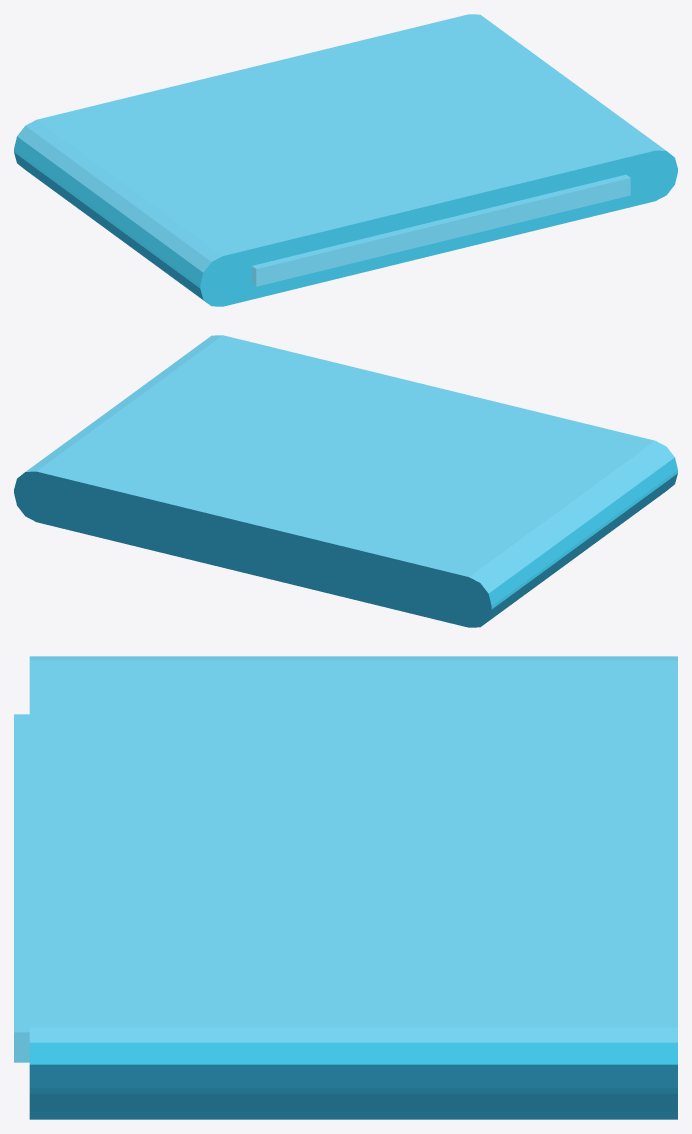
File: Plate_Pad.gltf
The picture shows the model from 3 angles, top to bottom: view 1: azimuth 30°, elevation 25°; view 2: azimuth 150°, elevation 25°; view 3: azimuth 270°, elevation 25°; orthographic projection. The views are drawn at different scales.
Parts seen in each view (by area): view 1: Plate_Pad_baked; view 2: Plate_Pad_baked; view 3: Plate_Pad_baked.
Part boxes in pixels (x1,y1,x2,y2): Plate_Pad_baked: (14, 14, 677, 306); Plate_Pad_baked: (14, 335, 677, 627); Plate_Pad_baked: (14, 656, 677, 1119).
Size of the model in its own units: 0.74 by 0.075 by 0.512.
